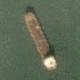ship: (0, 0, 6, 35)
